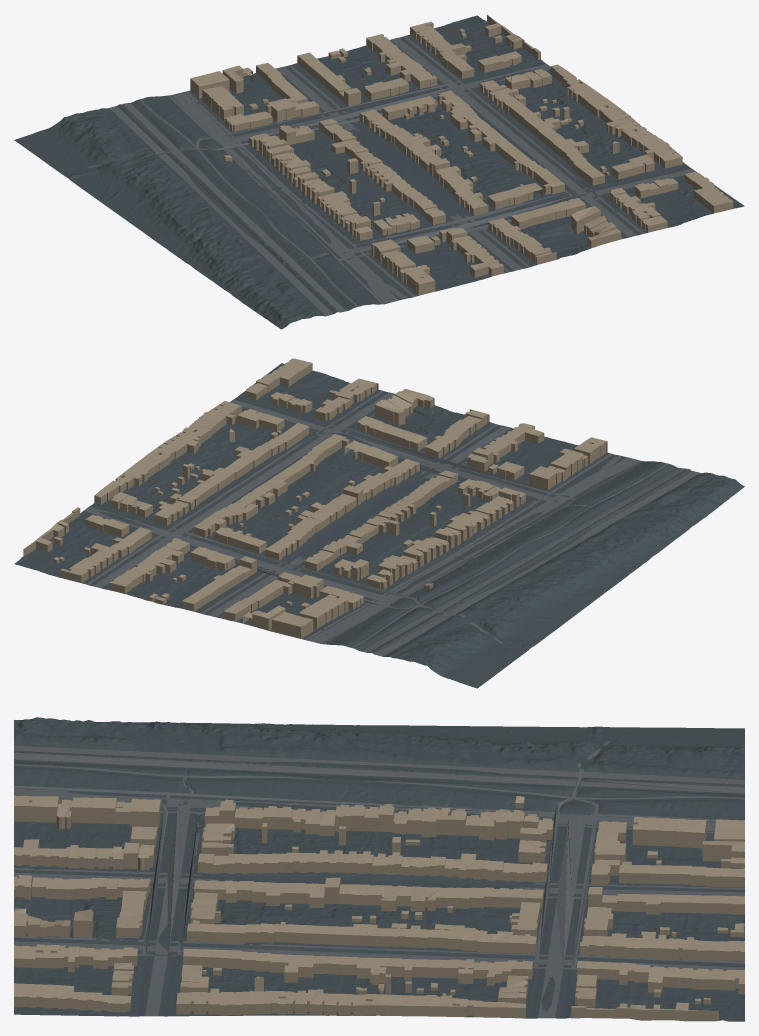
File: epsg26910-1415-10877.lod0.glb
3 renders of one model, top to bottom at view 1: azimuth 30°, elevation 25°; view 2: azimuth 150°, elevation 25°; view 3: azimuth 270°, elevation 25°, orthographic. The views are drawn at different scales.
Parts seen in each view (by area): view 1: epsg26910-1415-10877-lod0; view 2: epsg26910-1415-10877-lod0; view 3: epsg26910-1415-10877-lod0.
Boxes of the visible parts, left/top/right/bottom form: epsg26910-1415-10877-lod0: left=14, top=15, right=744, bottom=329; epsg26910-1415-10877-lod0: left=14, top=358, right=744, bottom=688; epsg26910-1415-10877-lod0: left=14, top=717, right=744, bottom=1021.
Size of the model in its own units: 384 by 20.51 by 384.
